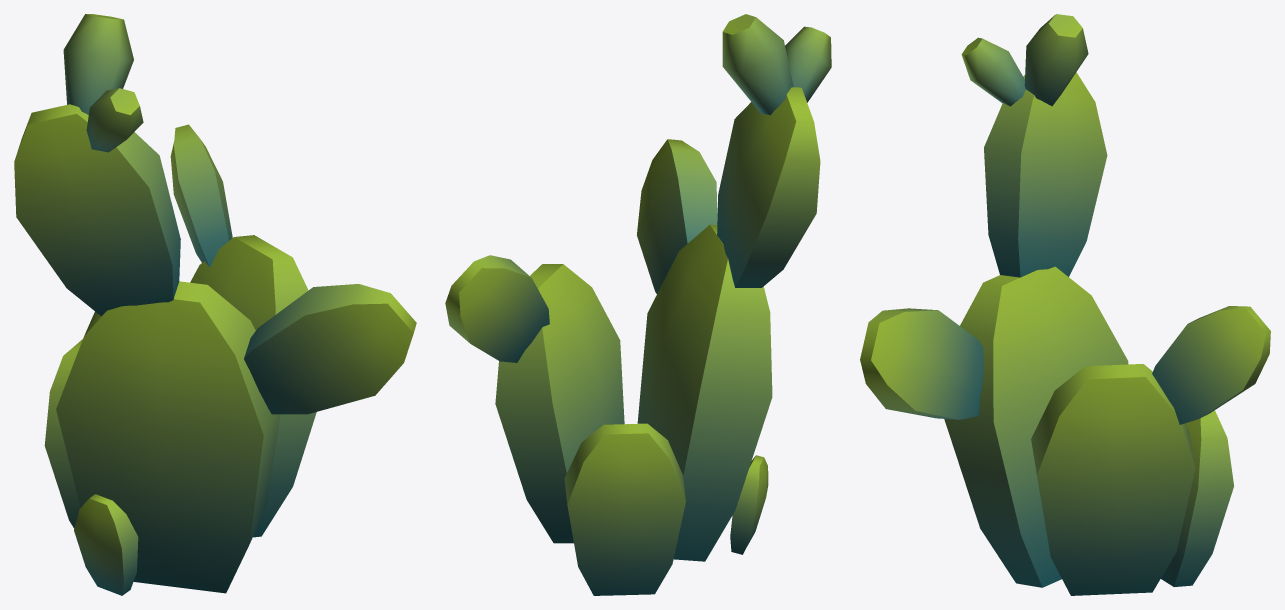
The picture shows the model from 3 angles, left to right: view 1: azimuth 30°, elevation 25°; view 2: azimuth 150°, elevation 25°; view 3: azimuth 270°, elevation 25°; orthographic projection. The views are drawn at different scales.
Visible parts, largest first — view 1: LOD 0_9307565563421575435_dfb458ee6005cff41928ff5135bac444; view 2: LOD 0_9307565563421575435_dfb458ee6005cff41928ff5135bac444; view 3: LOD 0_9307565563421575435_dfb458ee6005cff41928ff5135bac444.
Boxes of the visible parts, <box> form: LOD 0_9307565563421575435_dfb458ee6005cff41928ff5135bac444: <box>14,14,416,595</box>; LOD 0_9307565563421575435_dfb458ee6005cff41928ff5135bac444: <box>445,14,831,595</box>; LOD 0_9307565563421575435_dfb458ee6005cff41928ff5135bac444: <box>860,14,1270,595</box>.
Size of the model in its own units: 0.5677 by 1.06 by 0.7489.
